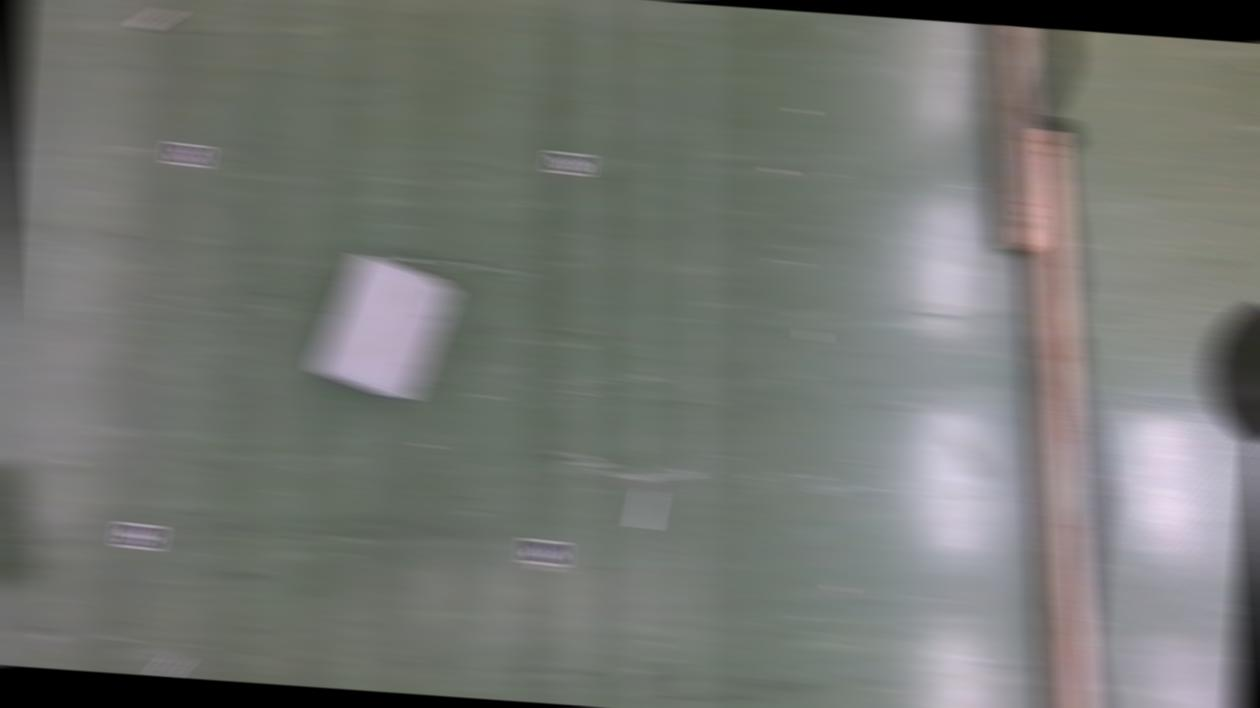probes: (136, 6, 178, 34), (634, 490, 660, 532), (152, 654, 186, 678)
rako: (309, 252, 458, 405)
